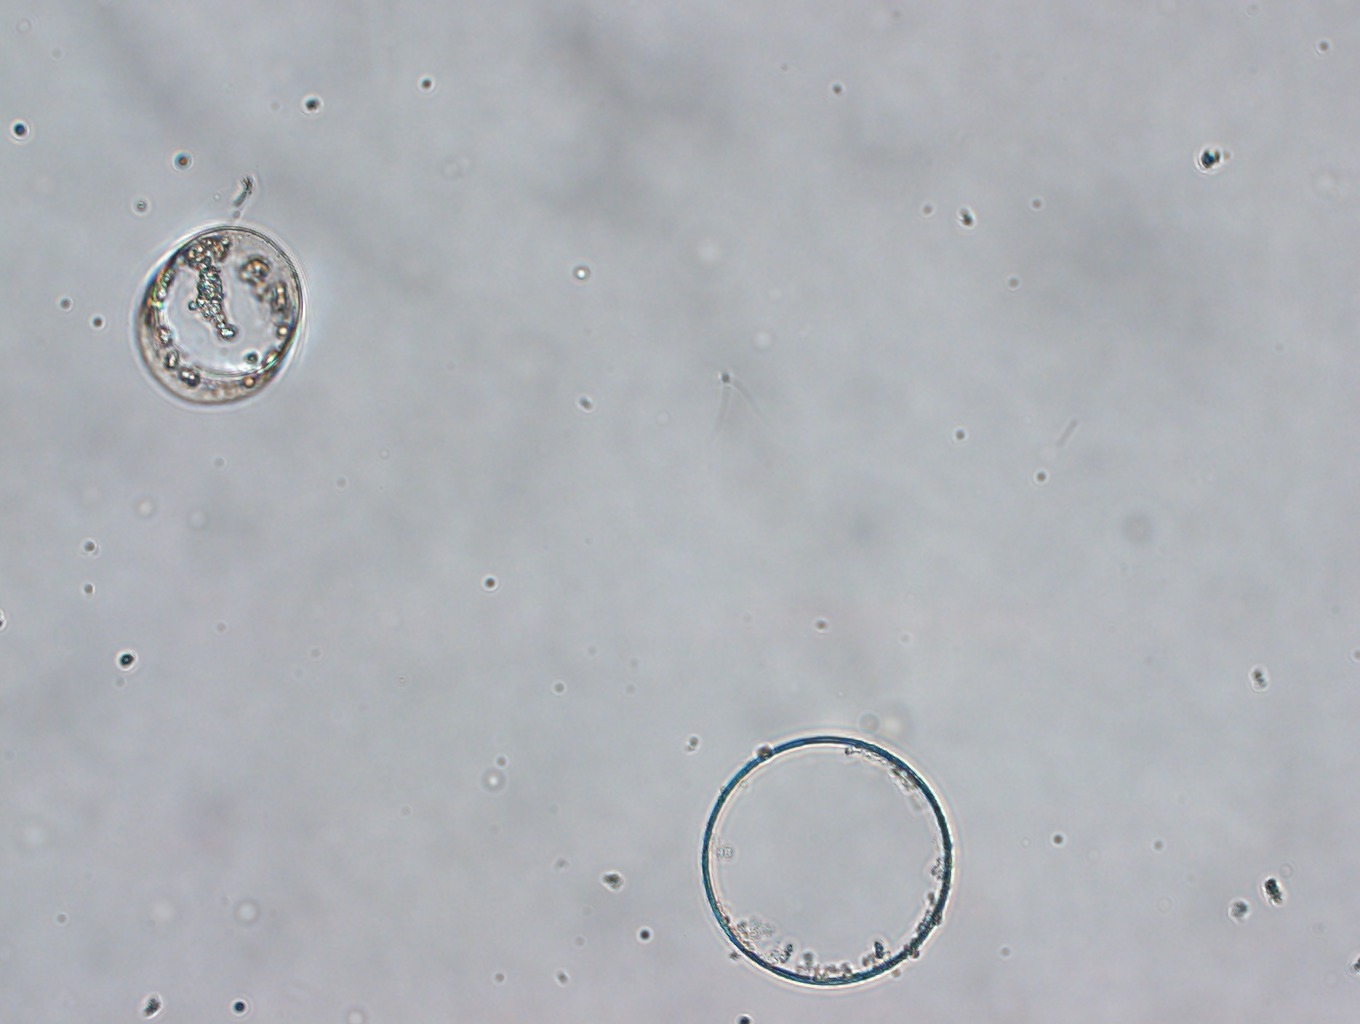coscinodiscus: (695, 727, 957, 989), (118, 215, 309, 415)
